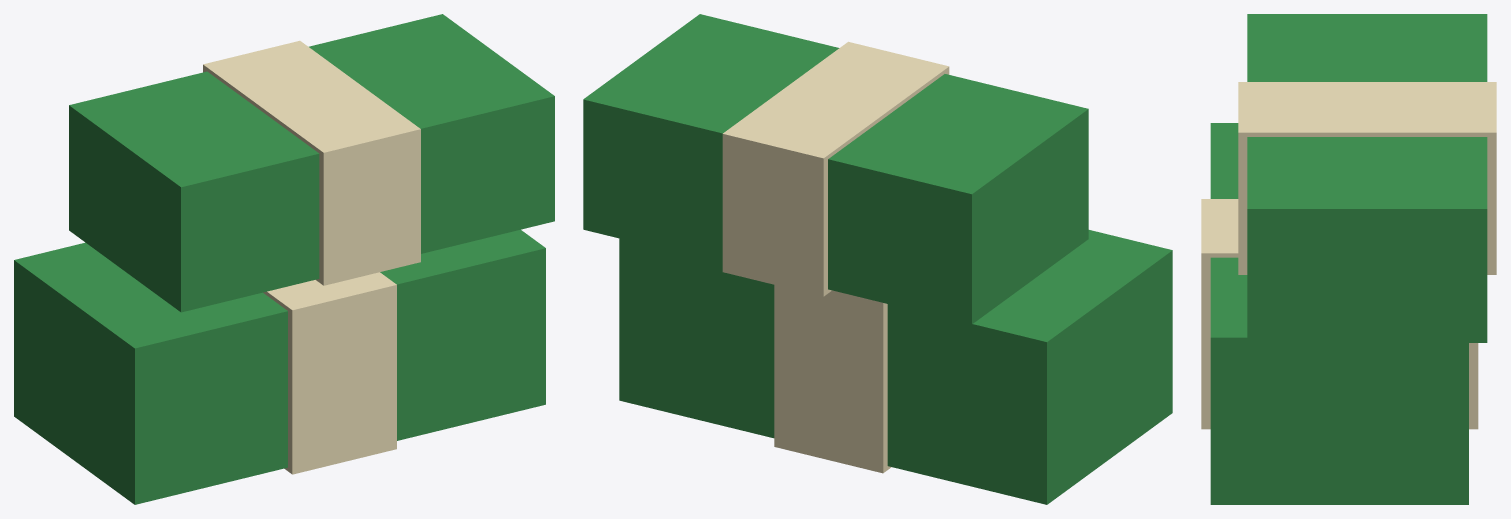
File: loot_cash.glb
3 renders of one model, left to right at view 1: azimuth 30°, elevation 25°; view 2: azimuth 150°, elevation 25°; view 3: azimuth 270°, elevation 25°, orthographic. The views are drawn at different scales.
Parts seen in each view (by area): view 1: Cash; view 2: Cash; view 3: Cash.
Boxes of the visible parts, x1=… form: Cash: x1=14, y1=14, x2=554, y2=504; Cash: x1=583, y1=14, x2=1172, y2=504; Cash: x1=1201, y1=14, x2=1496, y2=504.
Size of the model in its own units: 0.585 by 0.38 by 0.32.
